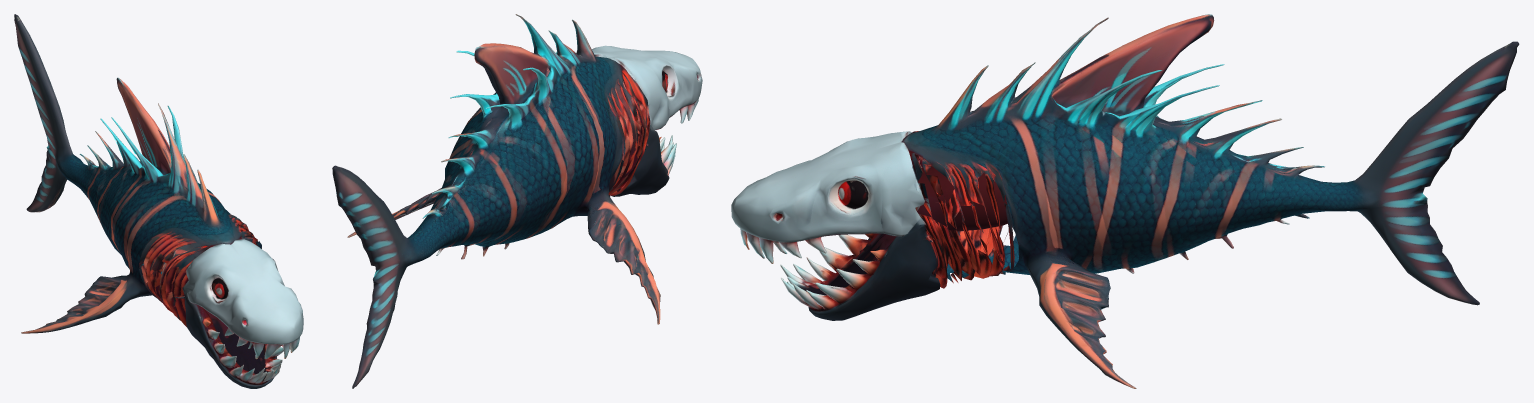
File: piranha-tier5.glb
The picture shows the model from 3 angles, left to right: view 1: azimuth 30°, elevation 25°; view 2: azimuth 150°, elevation 25°; view 3: azimuth 270°, elevation 25°; orthographic projection. The views are drawn at different scales.
Size of the model in its own units: 0.4961 by 0.4033 by 0.9541.
Materials: 1 (1 with a texture image).
